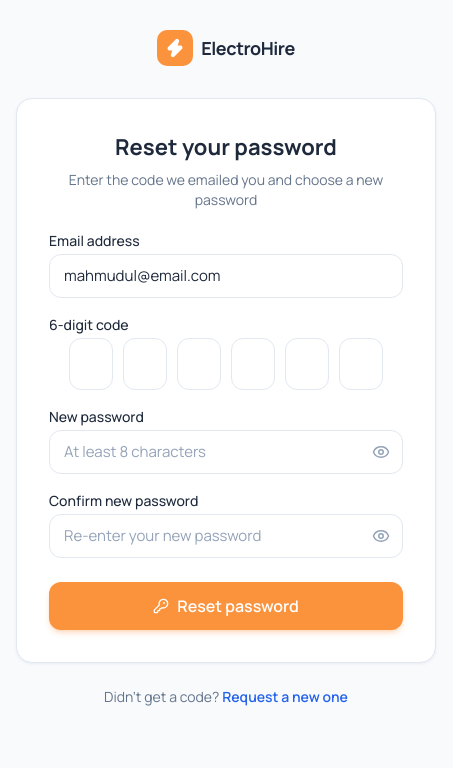
it: ResetPasswordPage › shows validation errors for an empty OTP and a too-short password
Type "short" into the password field labelled "New password" at {"x": 226, "y": 452}, box [49,430,403,474]
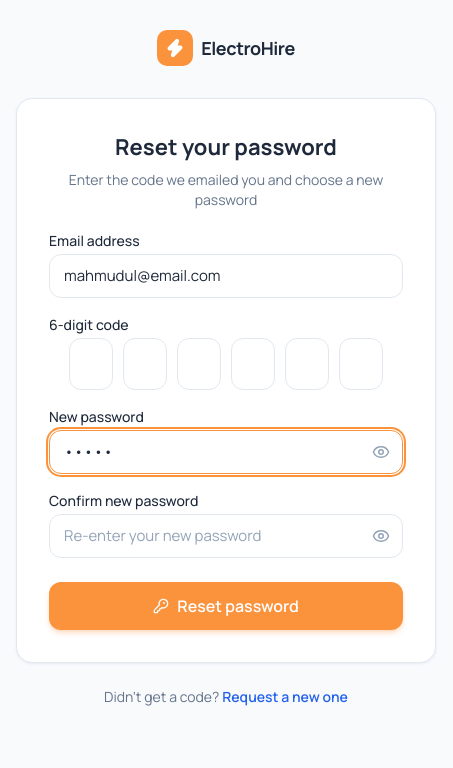
Click the button "Reset password" at {"x": 226, "y": 606}, box [49,582,403,630]
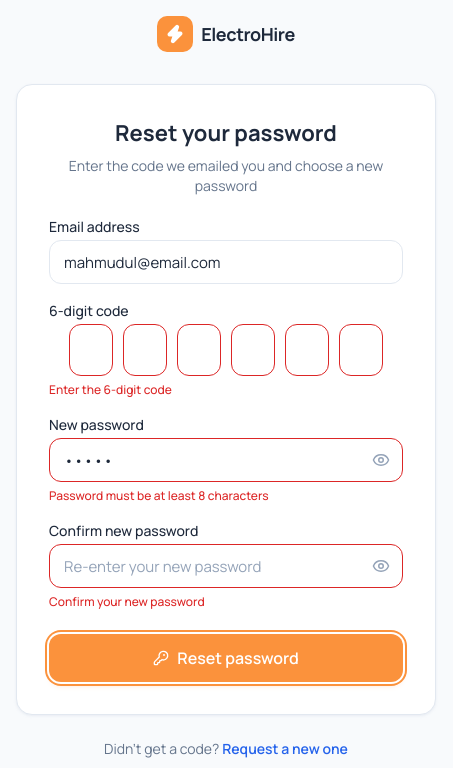
Check: the text "Enter the 6-digit code" is shown, box [49,381,172,398]
Check: the text "Password must be at least 8 characters" is shown, box [49,487,268,504]
